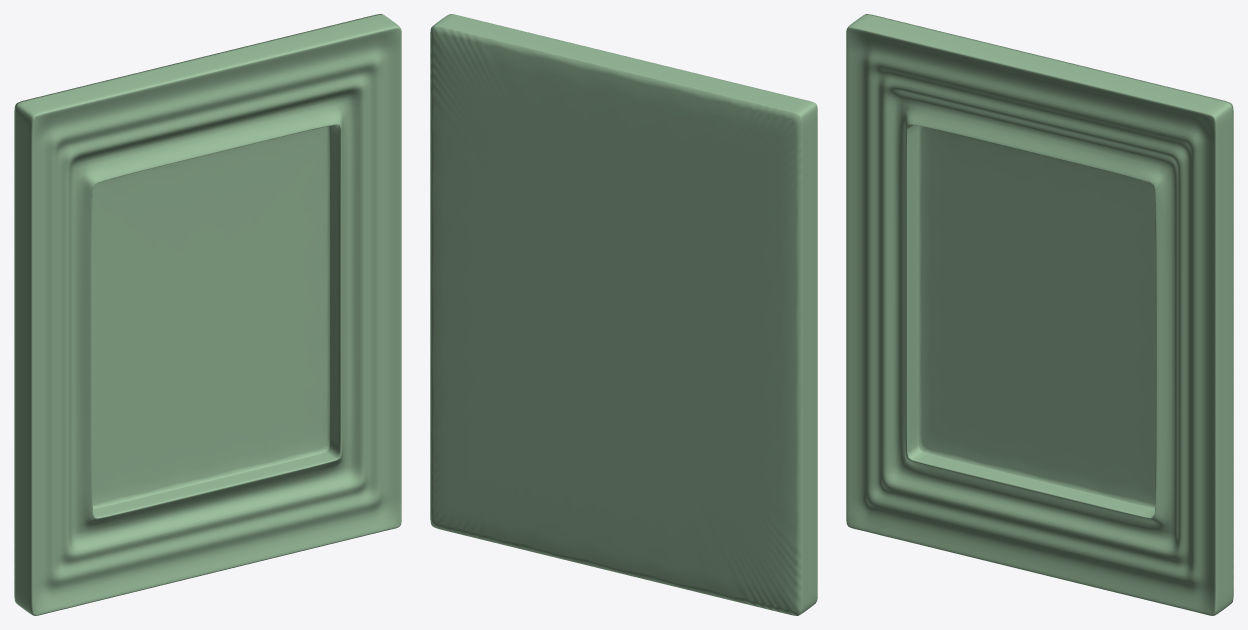
File: Frame_Nature_Green.glb
3 renders of one model, left to right at view 1: azimuth 30°, elevation 25°; view 2: azimuth 150°, elevation 25°; view 3: azimuth 330°, elevation 25°, orthographic.
Visible parts, largest first — view 1: frameHIGH; view 2: frameHIGH; view 3: frameHIGH.
Boxes of the visible parts, x1,y1,x2,y2 form: frameHIGH: [14, 14, 401, 615]; frameHIGH: [430, 14, 817, 615]; frameHIGH: [846, 14, 1233, 615].
Bounding box in the file's own units: 6.55 × 8.48 × 0.5856.
